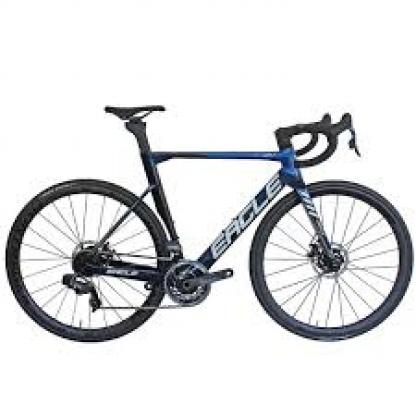Bike: (2, 105, 416, 342)
